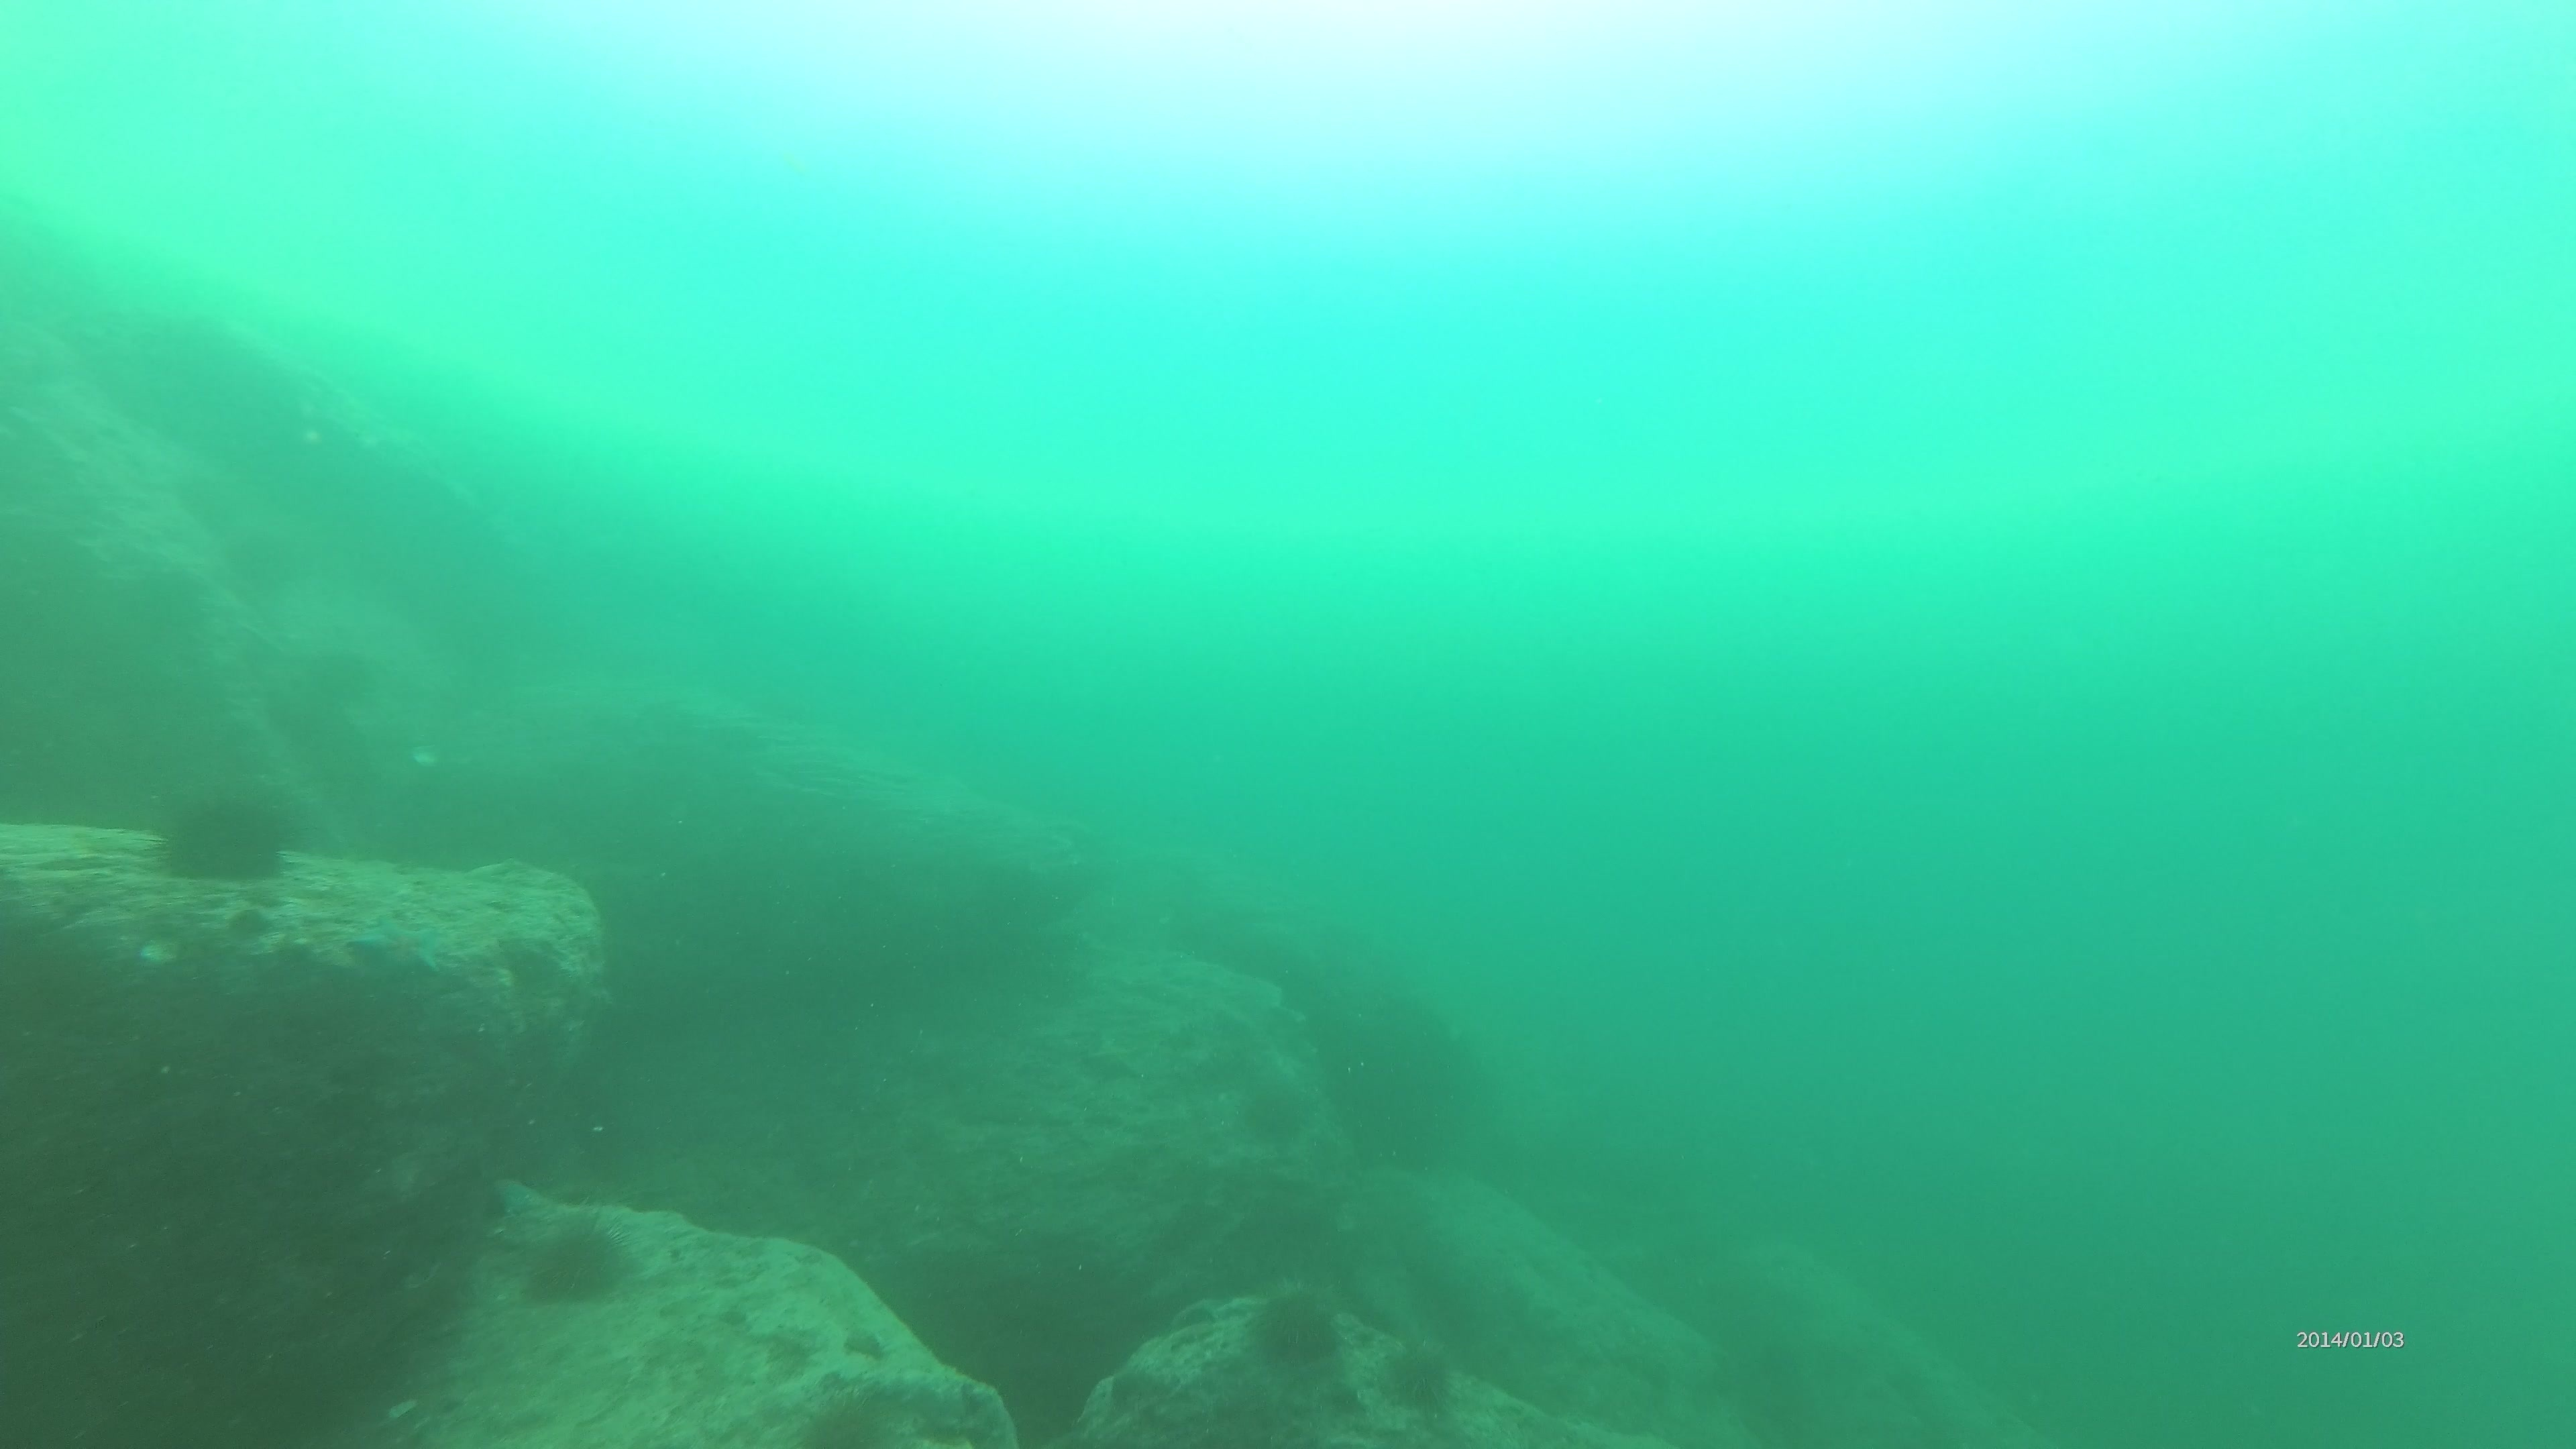echinus: (145, 780, 303, 893), (515, 1212, 639, 1313), (1238, 1279, 1352, 1378), (1375, 1336, 1465, 1421), (786, 1389, 902, 1449)
starfish: (340, 916, 453, 987)
